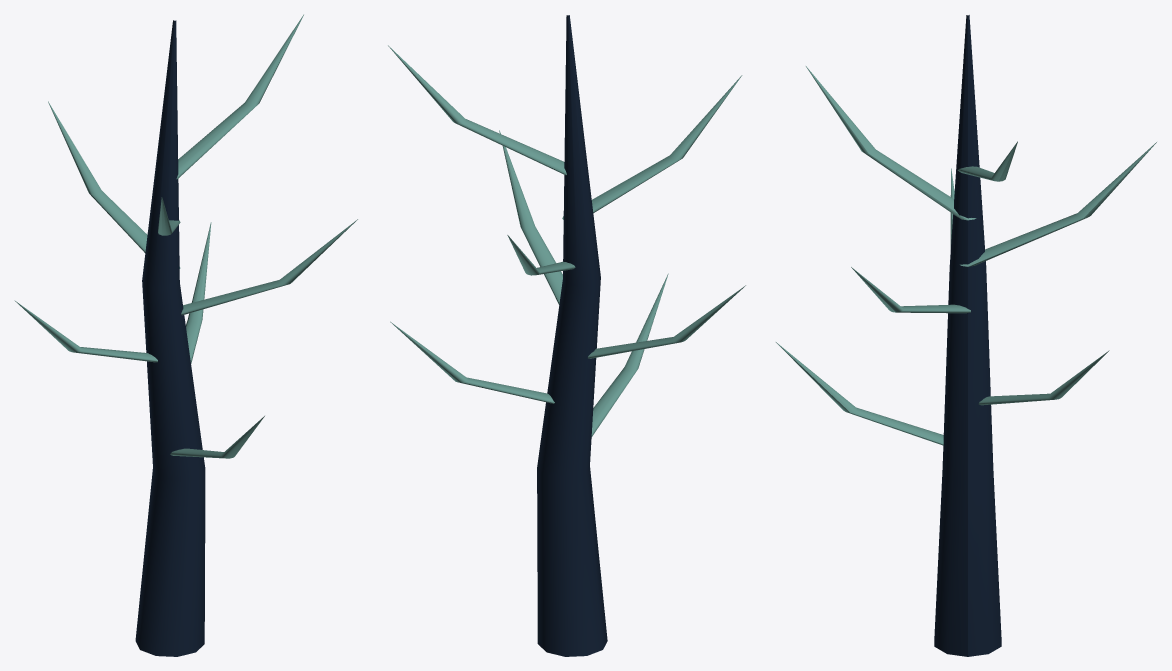
Rendered from prop_0_1.glb.
The picture shows the model from 3 angles, left to right: view 1: azimuth 30°, elevation 25°; view 2: azimuth 150°, elevation 25°; view 3: azimuth 270°, elevation 25°; orthographic projection.
Parts seen in each view (by area): view 1: TwistedTrunk, DeadBranch (×6); view 2: TwistedTrunk, DeadBranch (×7); view 3: TwistedTrunk, DeadBranch (×6).
Boxes of the visible parts, x1,y1,x2,y2 form: TwistedTrunk: [135, 20, 205, 656]; DeadBranch (×6): [14, 14, 357, 458]; TwistedTrunk: [537, 15, 607, 656]; DeadBranch (×7): [388, 45, 745, 436]; TwistedTrunk: [934, 15, 1001, 656]; DeadBranch (×6): [776, 66, 1156, 445].
Bounding box in the file's own units: 3.54 × 6.5 × 3.58.
